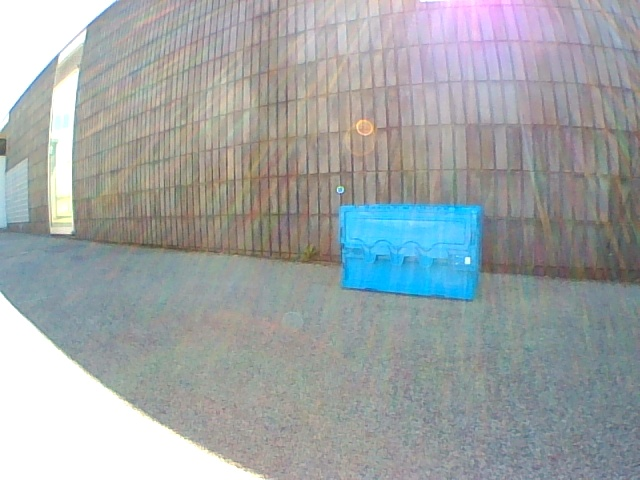blue_box: (340, 204, 479, 300)
